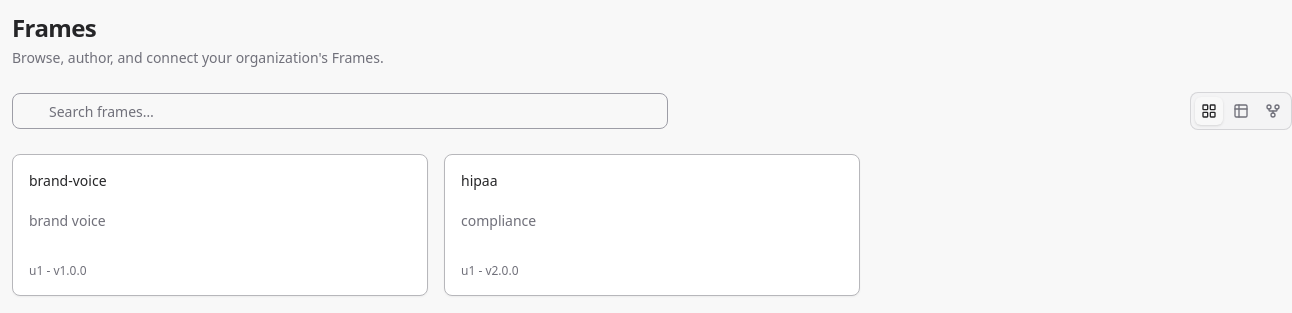
Test case: switches to the table view
The width and height of the screenshot is (1292, 313).
Click the button named "table" at point(1241, 111), box [1227,97,1255,125]
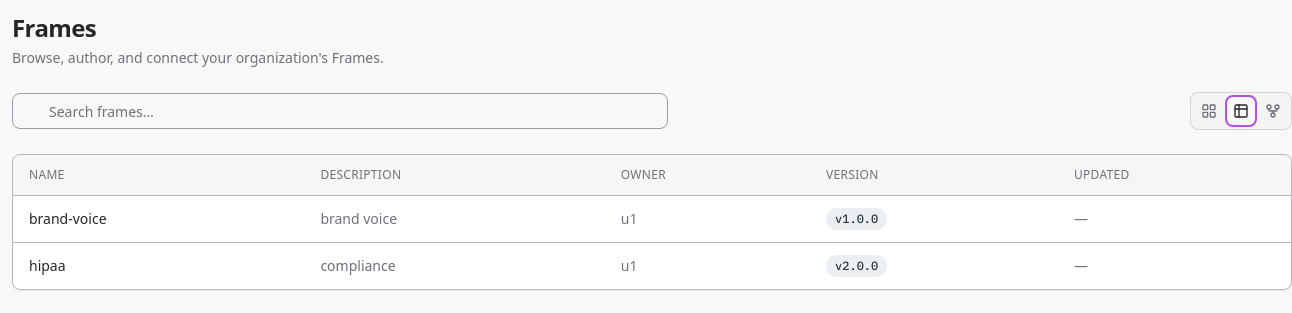
Now the table is shown, box [13,155,1291,289]
Now the column heading "Owner" is shown, box [605,155,810,196]
